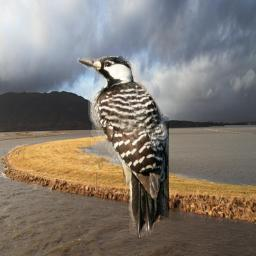Woodpecker: (77, 56, 169, 240)
